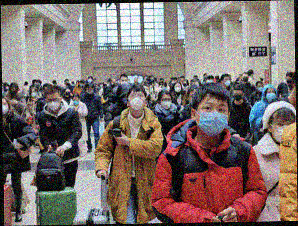with_mask: (195, 100, 229, 137), (270, 117, 296, 145), (127, 91, 146, 111), (46, 95, 61, 110), (264, 88, 277, 102), (159, 96, 172, 110), (2, 99, 10, 115), (232, 91, 244, 101), (255, 82, 264, 93), (222, 76, 231, 86), (173, 84, 183, 93), (8, 86, 18, 95), (143, 86, 150, 97), (119, 77, 128, 85), (72, 97, 81, 105), (241, 74, 249, 82), (30, 89, 38, 97), (85, 87, 94, 94), (64, 88, 71, 96), (285, 77, 292, 84), (206, 77, 214, 83), (162, 84, 168, 90), (87, 77, 93, 83), (181, 81, 188, 86), (79, 82, 85, 86)
without_mask: (133, 78, 138, 83)
